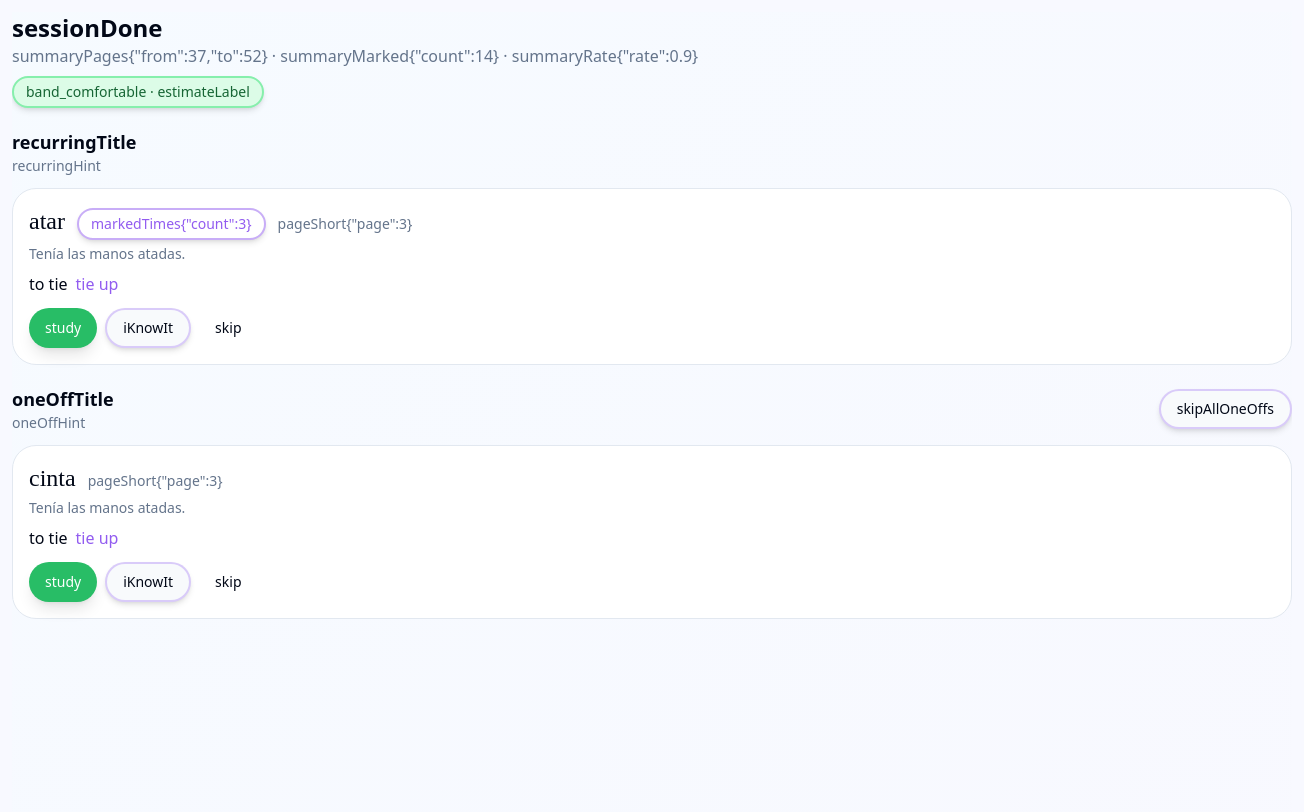
Test: BookTriage › skips every one-off at once and leaves the recurring words
Click the button with test id "skip-one-offs" at [1225, 409], box [1159,389,1292,429]
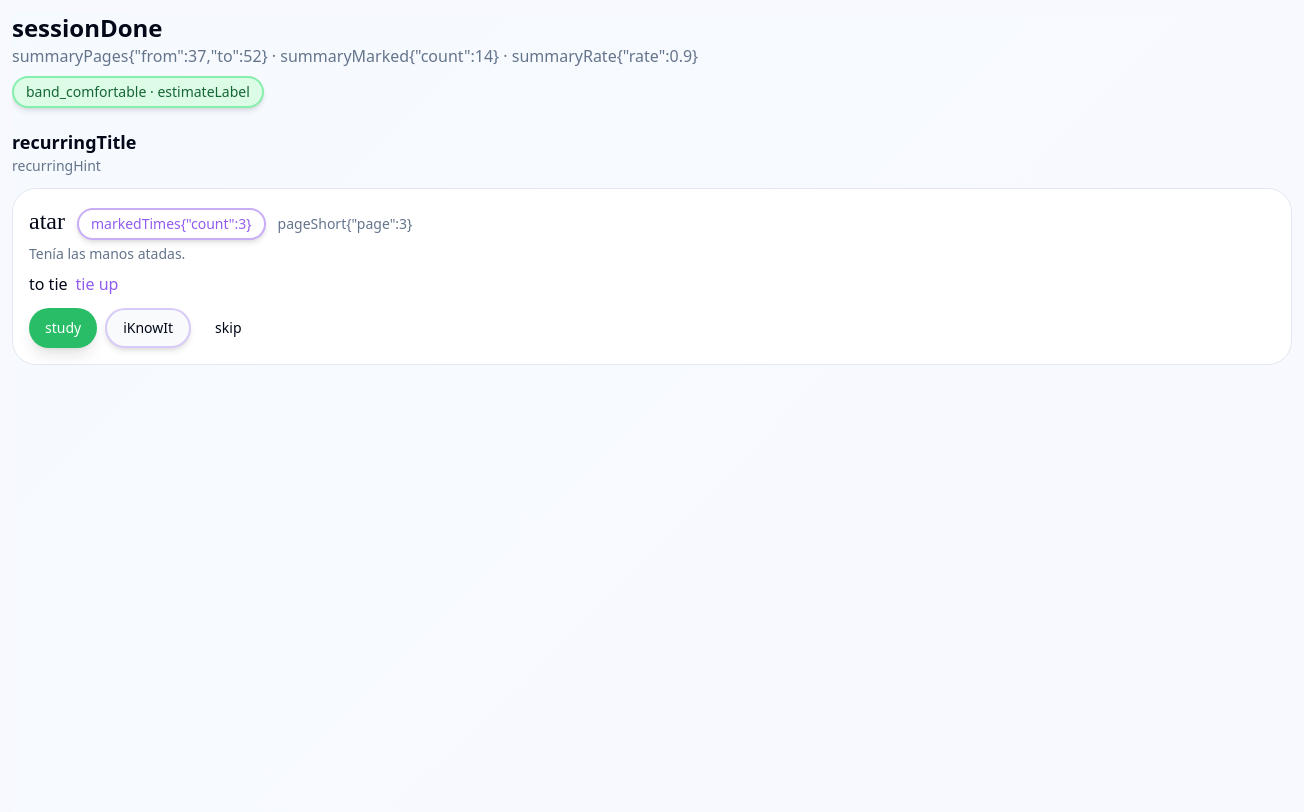
expect the list item with test id "triage-item" shows "atar": met, box [29,208,65,234]
expect the number of list items with test id "triage-item" is 1: met, box [12,188,1292,365]
